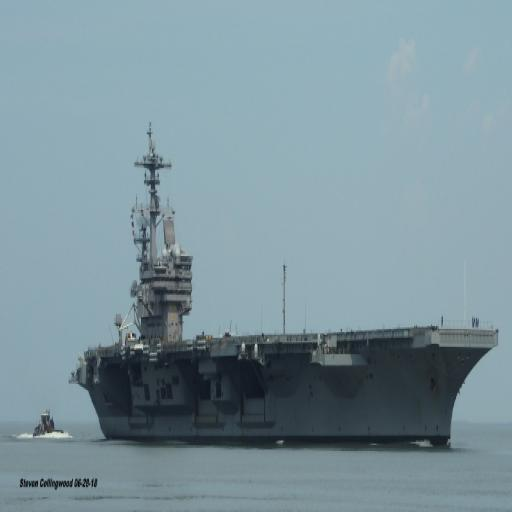Portanaves: (71, 123, 503, 456)
